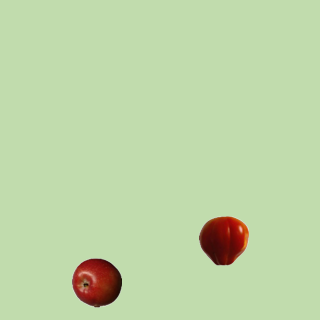Apple Braeburn: (71, 257, 121, 307)
Tomato 1: (198, 215, 248, 265)
